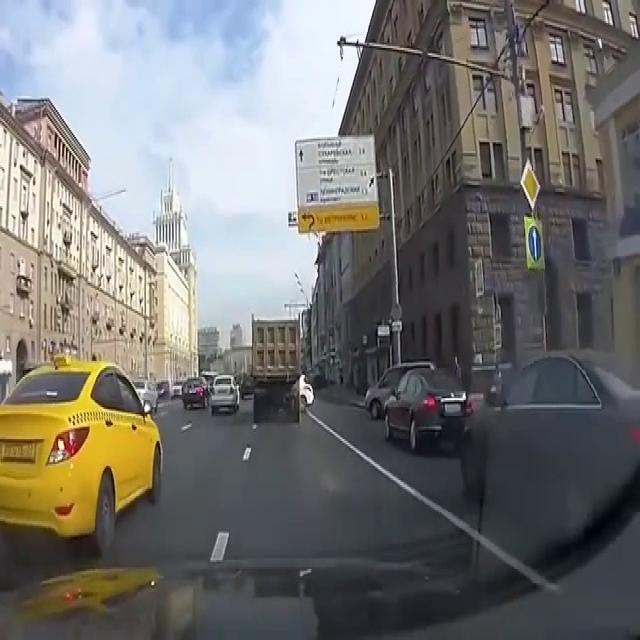moderate: (246, 306, 316, 431)
